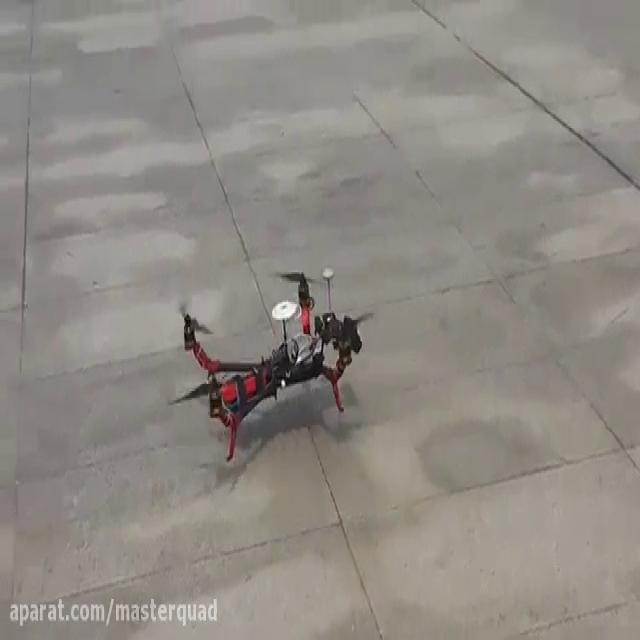drone: (156, 258, 379, 466)
